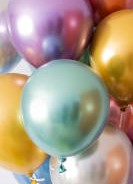Balloon: (21, 59, 111, 157), (5, 1, 93, 66), (92, 11, 133, 99)
